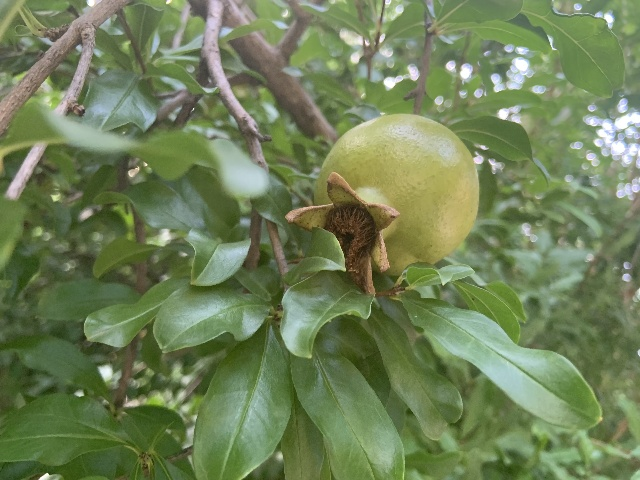mid-growth: (286, 112, 480, 297)
